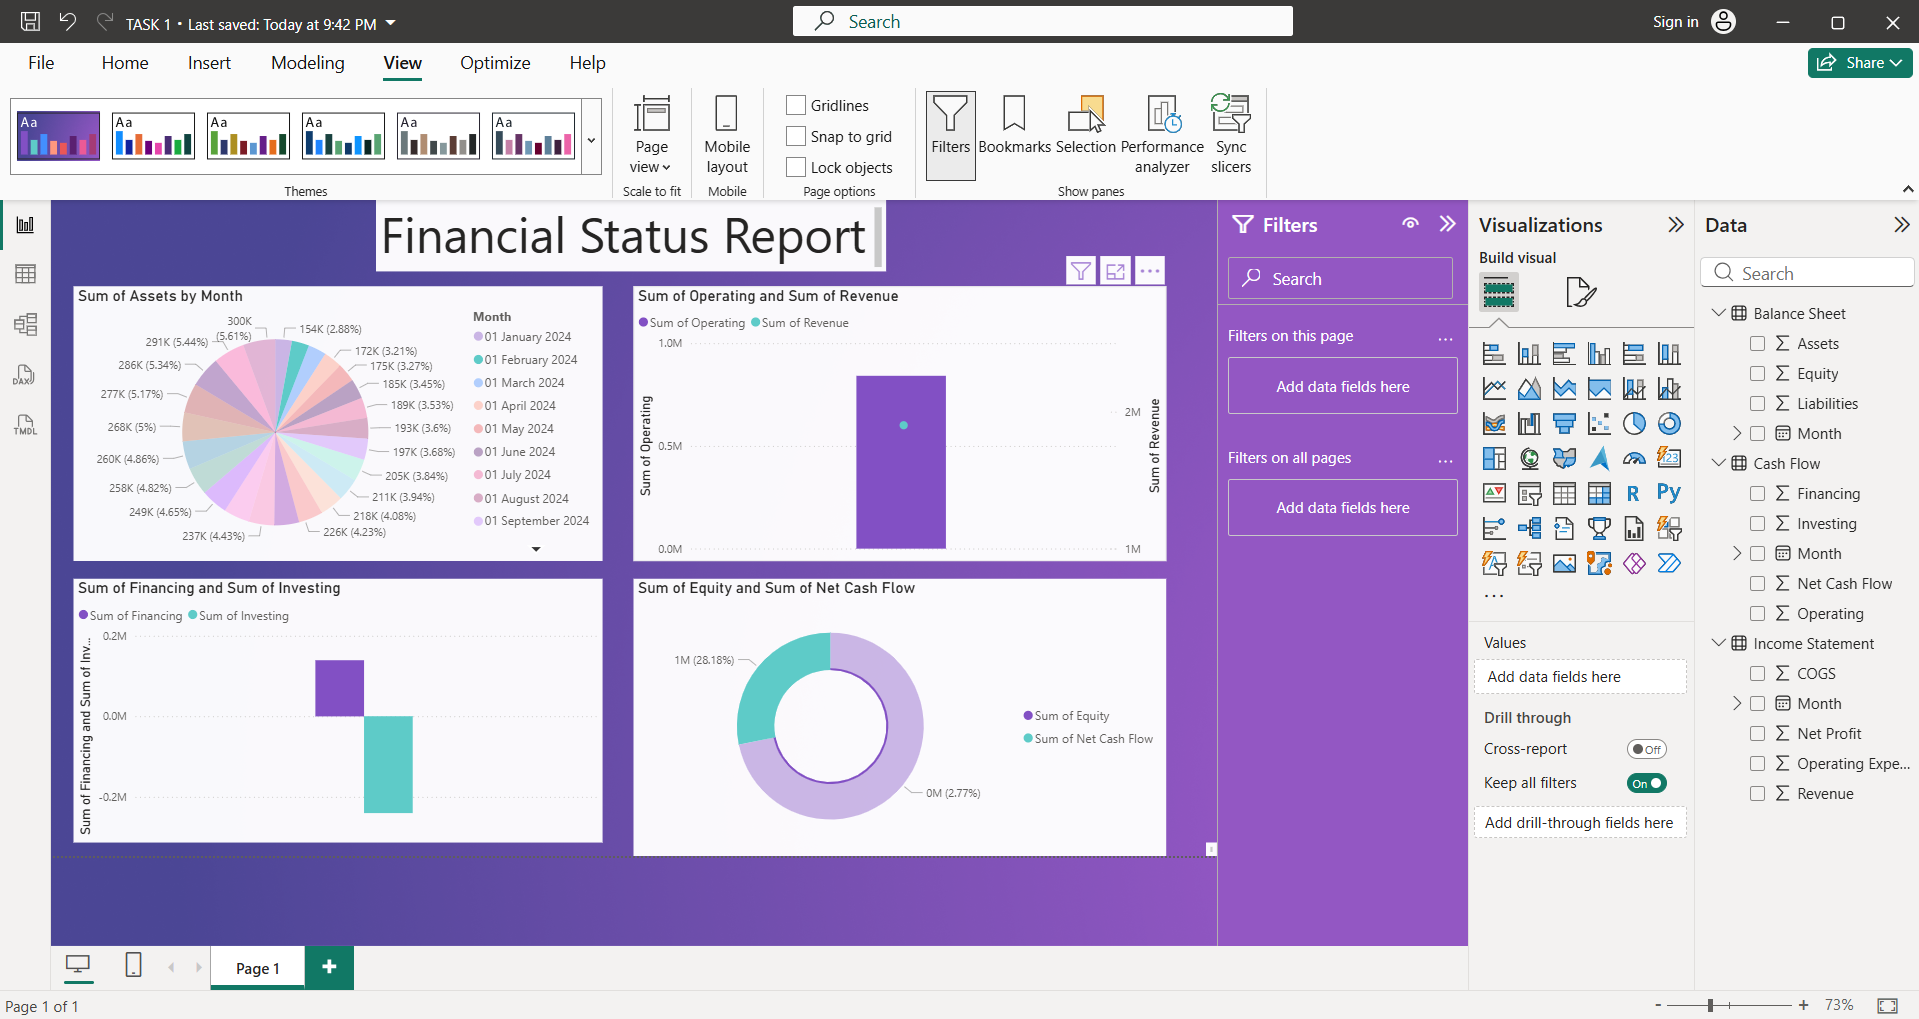

This screenshot's page, from the dashboard's own definition file:
{"tool":"powerbi","page":{"name":"Page 1","canvas":[1280,720],"ordinal":0},"visuals":[{"type":"pieChart","fields":{"Category":["Balance Sheet.Month"],"Y":["Sum(Balance Sheet.Assets)"]},"box":[24.7,94.7,580.4,301.9],"z":0},{"type":"clusteredColumnChart","fields":{"Y":["Sum(Cash Flow.Financing)","Sum(Cash Flow.Investing)"]},"box":[24.7,415.8,580.4,289.5],"z":1},{"type":"donutChart","fields":{"Y":["Sum(Balance Sheet.Equity)","Sum(Cash Flow.Net Cash Flow)"]},"box":[639.5,415.8,584.6,304.6],"z":2},{"type":"lineClusteredColumnComboChart","fields":{"Y":["Sum(Cash Flow.Operating)"],"Y2":["Sum(Income Statement.Revenue)"]},"box":[639.5,94.7,584.6,301.9],"z":3},{"type":"textbox","box":[1267.9,705.3,12.3,15.1],"z":4},{"type":"textbox","box":[356.8,0,559.9,78.2],"z":5}]}

Visuals, with their boxes on the page's 1280x720 design canvas (x1, y1, x2, y2). These are canvas units, not pixel positions in the 1919x1019 screenshot, which may show the page scaled, cropped or inside an application window:
pieChart - Balance Sheet.Month x Sum(Balance Sheet.Assets): detection(25, 95, 605, 397)
clusteredColumnChart - Sum(Cash Flow.Financing) x Sum(Cash Flow.Investing): detection(25, 416, 605, 705)
donutChart - Sum(Balance Sheet.Equity) x Sum(Cash Flow.Net Cash Flow): detection(640, 416, 1224, 720)
lineClusteredColumnComboChart - Sum(Cash Flow.Operating) x Sum(Income Statement.Revenue): detection(640, 95, 1224, 397)
textbox: detection(1268, 705, 1280, 720)
textbox: detection(357, 0, 917, 78)
